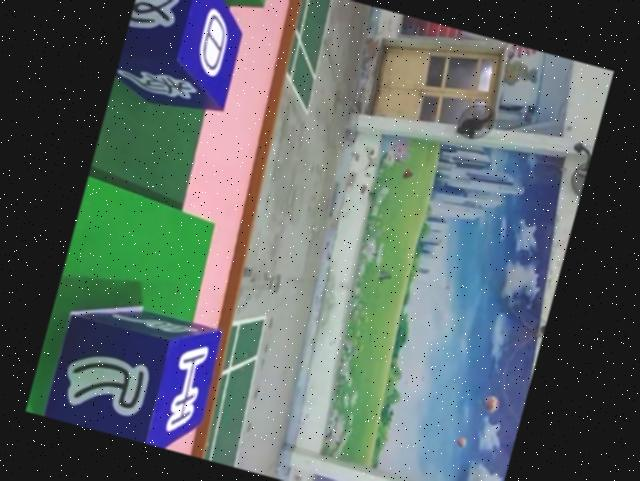R2 Fake Blue: (42, 288, 227, 456), (111, 0, 259, 121)
